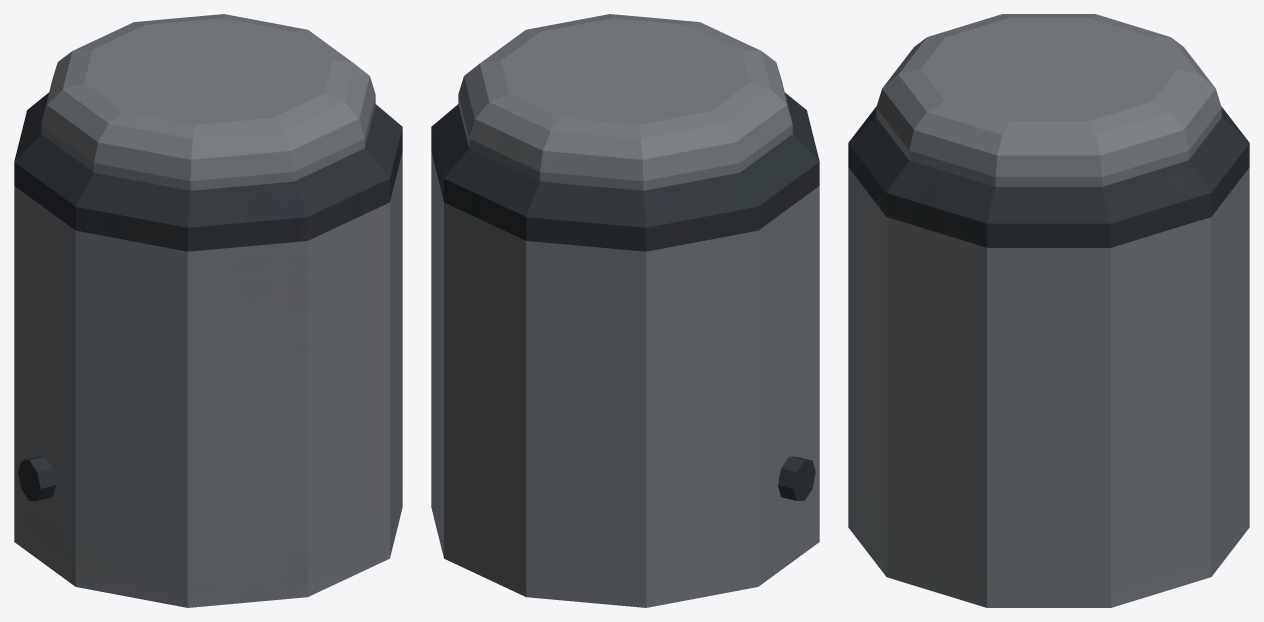
The model's file is RubbishBin(Textured).fbx.
The picture shows the model from 3 angles, left to right: view 1: azimuth 30°, elevation 25°; view 2: azimuth 150°, elevation 25°; view 3: azimuth 270°, elevation 25°; orthographic projection.
Visible parts, largest first — view 1: TrashcanBody, TrashcanHead; view 2: TrashcanBody, TrashcanHead; view 3: TrashcanBody, TrashcanHead.
Boxes of the visible parts, <box> form: TrashcanBody: <box>14,152,402,607</box>; TrashcanHead: <box>14,14,402,251</box>; TrashcanBody: <box>431,152,819,607</box>; TrashcanHead: <box>431,14,819,251</box>; TrashcanBody: <box>848,168,1249,607</box>; TrashcanHead: <box>848,14,1249,247</box>.
Bounding box in the file's own units: 199 × 252 × 200.
